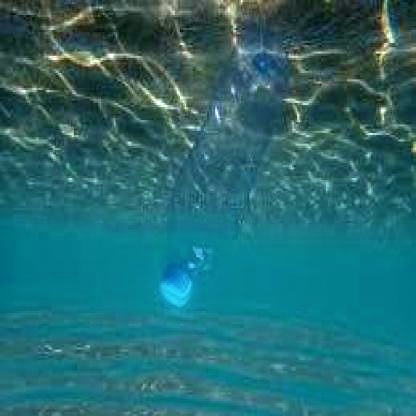pbottle: (148, 22, 307, 313)
